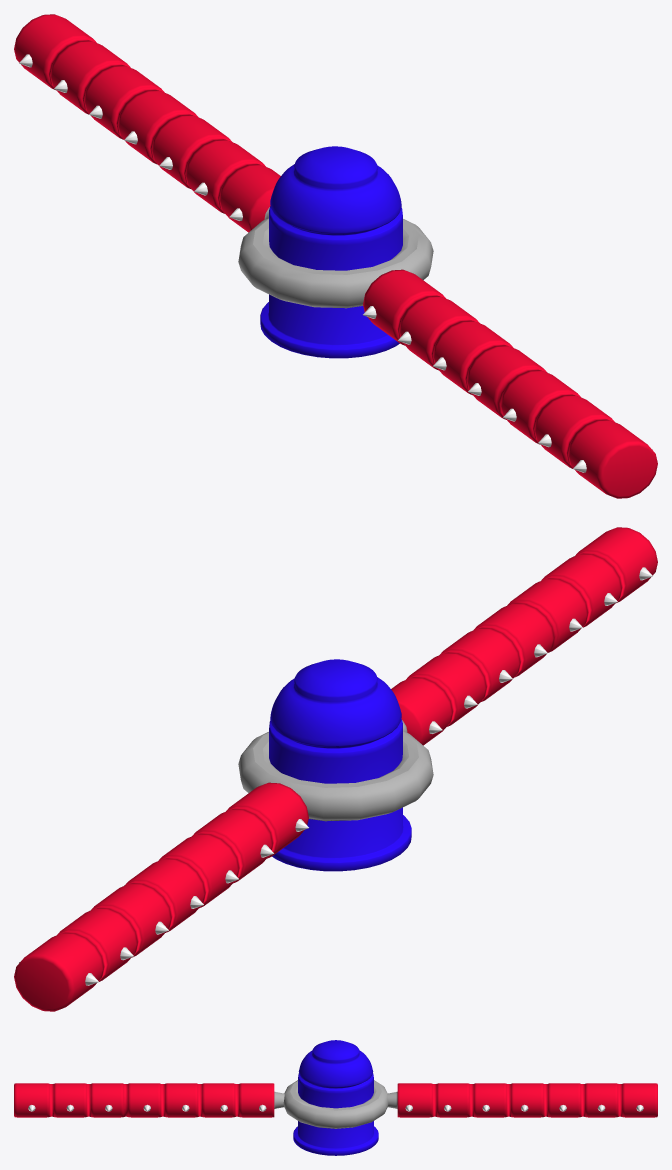
Rendered from Obstacle12.fbx.
The picture shows the model from 3 angles, top to bottom: view 1: azimuth 30°, elevation 25°; view 2: azimuth 150°, elevation 25°; view 3: azimuth 270°, elevation 25°; orthographic projection. The views are drawn at different scales.
Visible parts, largest first — view 1: Cylinder.029, Cylinder.028, Torus.012; view 2: Cylinder.029, Cylinder.028, Torus.012; view 3: Cylinder.029, Cylinder.028, Torus.012.
Boxes of the visible parts, x1,y1,x2,y2 form: Cylinder.029: (14,14,657,498); Cylinder.028: (260,146,402,358); Torus.012: (238,218,433,308); Cylinder.029: (14,527,657,1011); Cylinder.028: (269,659,411,871); Torus.012: (238,731,433,821); Cylinder.029: (14,1083,657,1117); Cylinder.028: (293,1040,378,1155); Torus.012: (283,1080,388,1128).
Size of the model in its own units: 179 by 169 by 1065.
